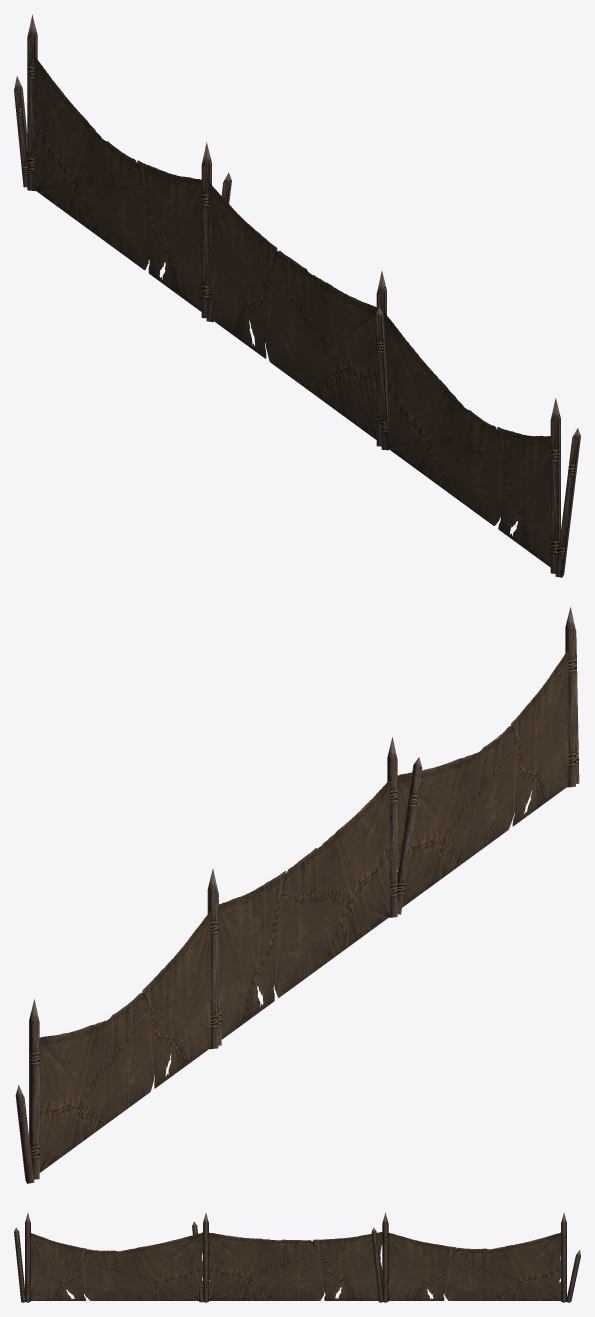
The model's file is zhangpeng_yc_44.FBX.
3 views of the same model, one above another, from view 1: azimuth 30°, elevation 25°; view 2: azimuth 150°, elevation 25°; view 3: azimuth 270°, elevation 25° (orthographic). The views are drawn at different scales.
Parts seen in each view (by area): view 1: zhangpeng_yc_44; view 2: zhangpeng_yc_44; view 3: zhangpeng_yc_44.
Boxes of the visible parts, <box> form: zhangpeng_yc_44: <box>14,14,580,577</box>; zhangpeng_yc_44: <box>15,607,579,1183</box>; zhangpeng_yc_44: <box>14,1212,580,1302</box>.
Size of what is drawn, in the model's own units: 72.55 by 379 by 2161.
